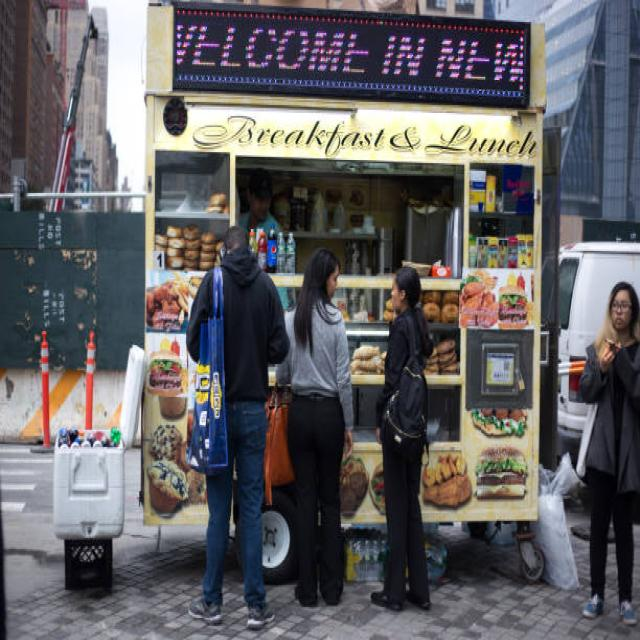Emperan: (130, 0, 560, 609)
